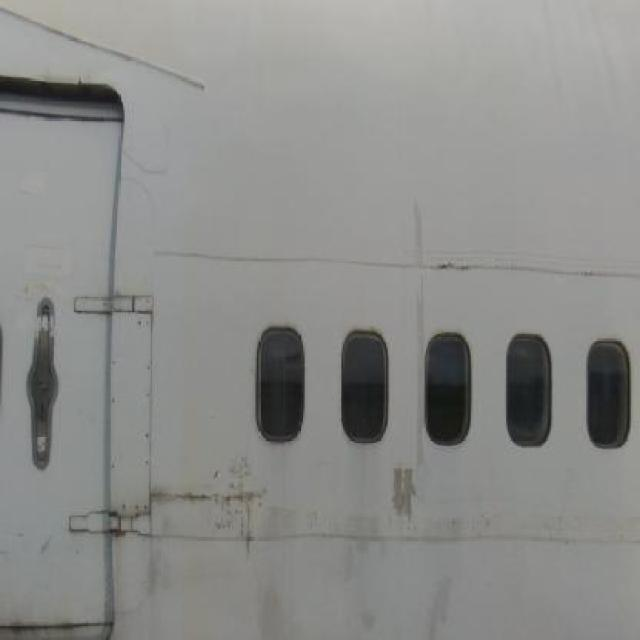Scartch: (207, 448, 270, 567), (402, 194, 429, 454), (386, 452, 426, 548)
